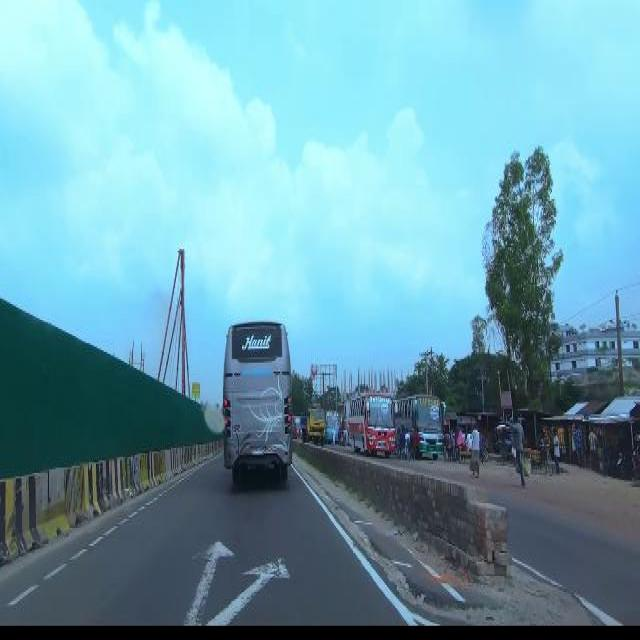bike: (617, 435, 640, 476), (484, 439, 490, 457)
vehicle: (223, 321, 292, 481), (398, 390, 447, 456), (349, 390, 396, 454), (301, 401, 325, 442), (325, 407, 341, 439), (293, 412, 301, 435)
